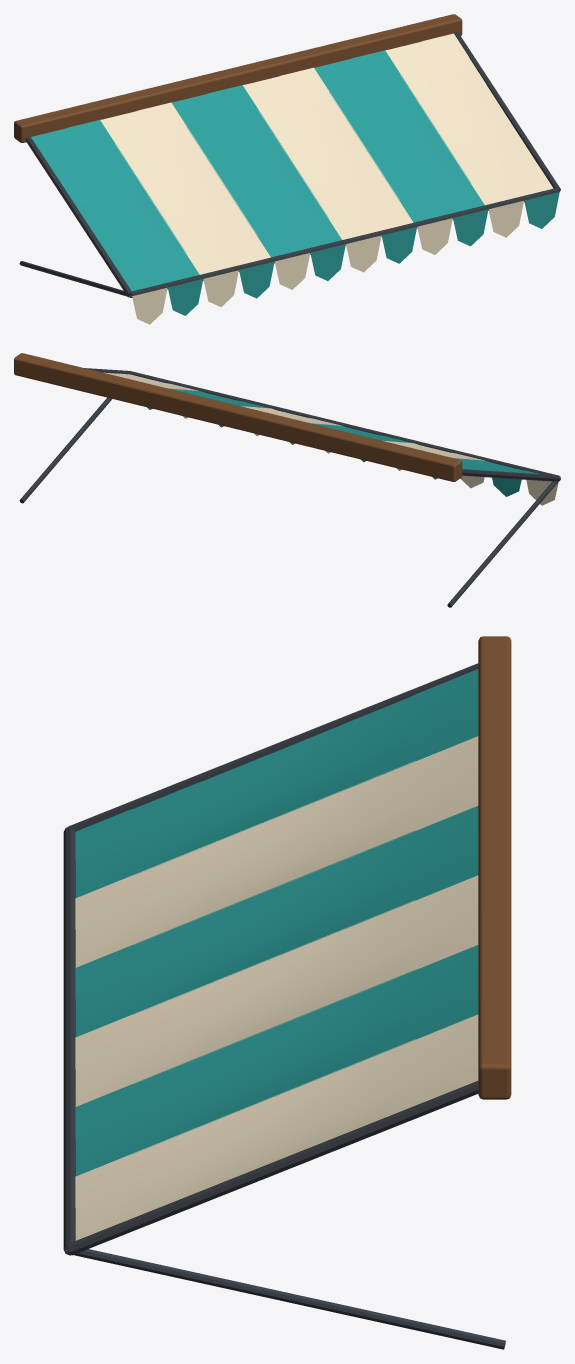
File: mk_awning_teal.glb
3 renders of one model, top to bottom at view 1: azimuth 30°, elevation 25°; view 2: azimuth 150°, elevation 25°; view 3: azimuth 270°, elevation 25°, orthographic. The views are drawn at different scales.
Parts seen in each view (by area): view 1: mk_awning_teal_body; view 2: mk_awning_teal_body; view 3: mk_awning_teal_body.
Part boxes in pixels (<box>): mk_awning_teal_body: <box>14,14,560,324</box>; mk_awning_teal_body: <box>14,353,560,607</box>; mk_awning_teal_body: <box>63,636,511,1349</box>.
Bounding box in the file's own units: 3.1 × 0.9746 × 1.36.
